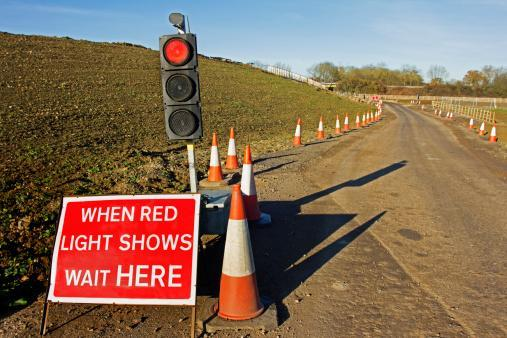Cone: (201, 183, 276, 332), (236, 145, 270, 223), (200, 131, 231, 184), (223, 127, 244, 174), (292, 117, 305, 149), (317, 116, 326, 141), (334, 114, 343, 137), (343, 112, 350, 131), (479, 119, 485, 136), (469, 114, 475, 130), (355, 112, 360, 128), (492, 123, 496, 141), (363, 112, 367, 127)
